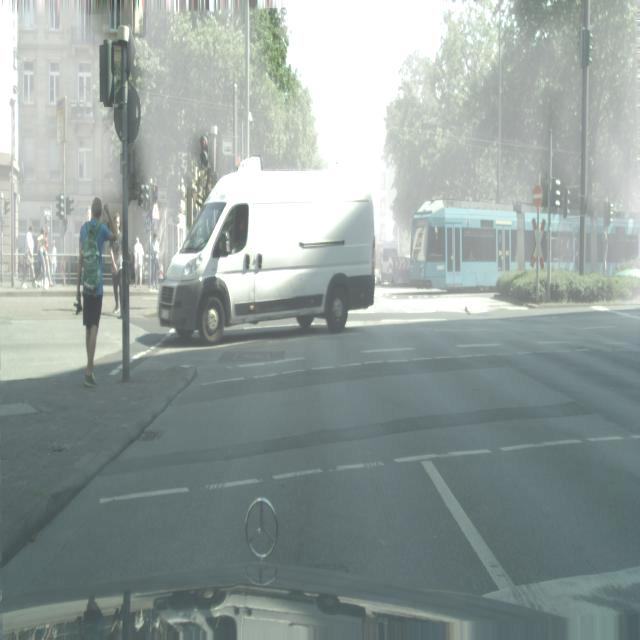bicycle: (409, 201, 639, 294)
person: (75, 196, 118, 387), (110, 227, 122, 316), (22, 224, 38, 289), (38, 228, 54, 289), (133, 234, 144, 288), (151, 233, 160, 290)
rider: (157, 157, 375, 345)
